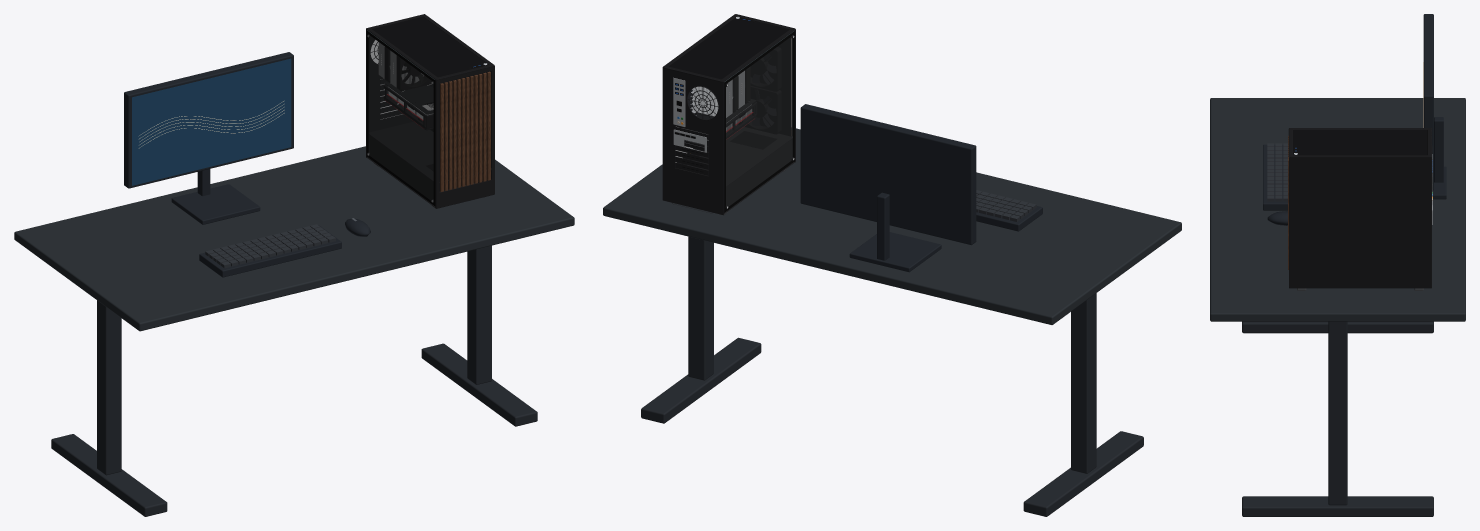
Rendered from pcstudio-desk.glb.
3 views of the same model, side by side, from view 1: azimuth 30°, elevation 25°; view 2: azimuth 150°, elevation 25°; view 3: azimuth 270°, elevation 25° (orthographic). The views are drawn at different scales.
Visible parts, largest first — view 1: tabletop, display, side_panel__glass_side, front__wood_walnut, shell__case_inner, leg--1, shell__top_mesh, leg-1, foot-1, foot--1, display-shell, keycaps (+7 smaller); view 2: tabletop, display-shell, shell__case_inner, side_panel__glass_side, leg--1, leg-1, shell__top_mesh, foot--1, foot-1, stand-base, front__front_mesh, keycaps (+7 smaller); view 3: tabletop, shell__case_shell, foot-1, leg-1, shell__top_mesh, foot--1, display-shell, keycaps, keyboard-base, stand.
Boxes of the visible parts, <box> form: tabletop: <box>14,146,574,331</box>; display: <box>132,58,291,185</box>; side_panel__glass_side: <box>368,36,433,199</box>; front__wood_walnut: <box>440,71,490,191</box>; shell__case_inner: <box>367,14,491,207</box>; leg--1: <box>97,300,121,475</box>; shell__top_mesh: <box>372,16,488,77</box>; leg-1: <box>467,245,491,384</box>; foot-1: <box>421,343,537,426</box>; foot--1: <box>51,434,167,516</box>; display-shell: <box>124,52,293,188</box>; keycaps: <box>205,224,335,268</box>; tabletop: <box>603,128,1181,324</box>; display-shell: <box>800,104,976,245</box>; shell__case_inner: <box>662,67,794,214</box>; side_panel__glass_side: <box>726,36,792,206</box>; leg--1: <box>1071,293,1096,473</box>; leg-1: <box>688,236,713,380</box>; shell__top_mesh: <box>669,16,789,79</box>; foot--1: <box>1023,431,1143,516</box>; foot-1: <box>641,337,761,423</box>; stand-base: <box>849,232,941,272</box>; front__front_mesh: <box>750,37,791,136</box>; keycaps: <box>976,190,1036,221</box>; tabletop: <box>1210,98,1465,321</box>; shell__case_shell: <box>1288,128,1431,287</box>; foot-1: <box>1242,496,1433,516</box>; leg-1: <box>1328,321,1347,505</box>; shell__top_mesh: <box>1293,130,1427,155</box>; foot--1: <box>1242,321,1433,333</box>; display-shell: <box>1423,14,1433,190</box>; keycaps: <box>1267,143,1287,201</box>; keyboard-base: <box>1263,144,1287,210</box>; stand: <box>1434,117,1443,182</box>.
Bounding box in the file's own units: 1.6 × 1.21 × 0.8.
82 materials, 12 textured.
